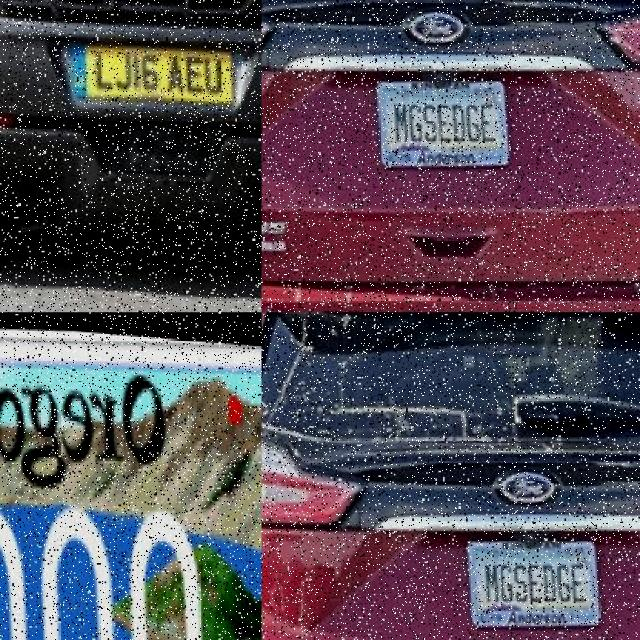licenseplate: (0, 457, 229, 640), (375, 72, 510, 162), (466, 532, 601, 622), (70, 45, 234, 97)
